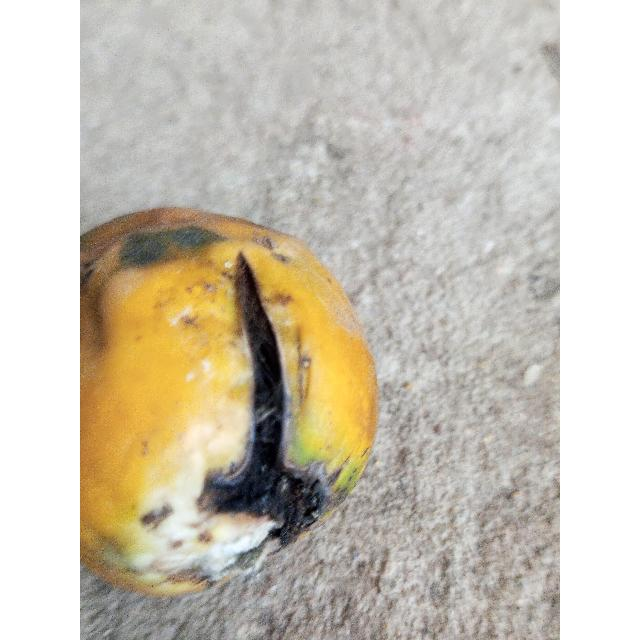damaged: (80, 208, 378, 596)
